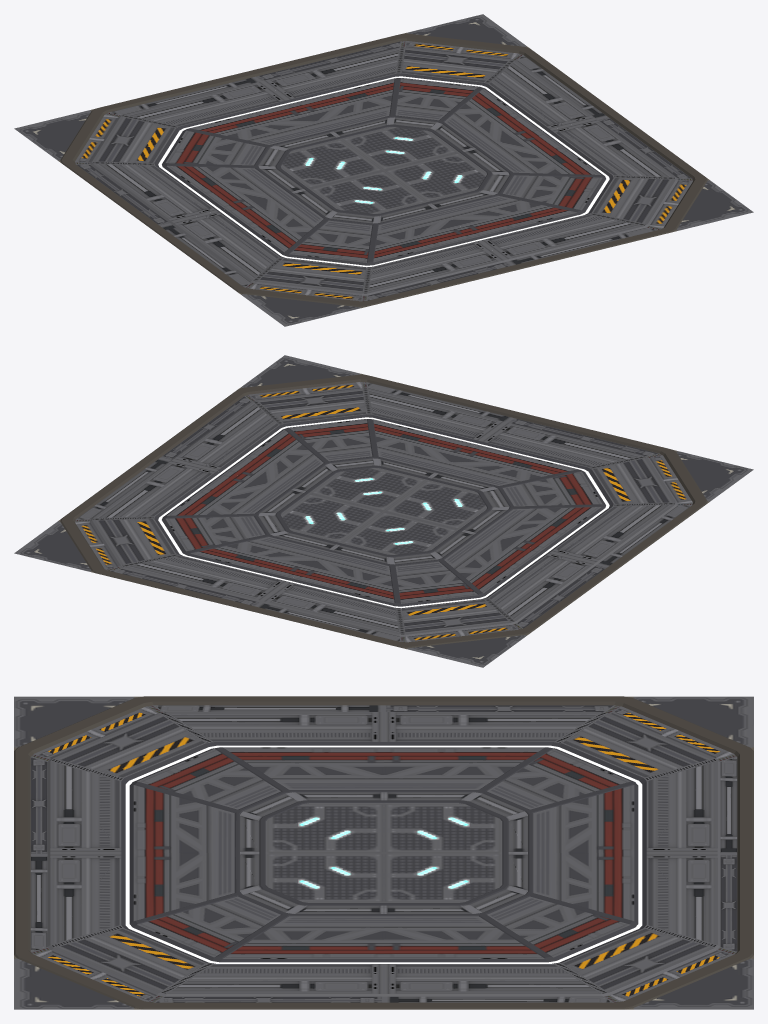
Rendered from SMBldPlatformLarge.glb.
3 views of the same model, one above another, from view 1: azimuth 30°, elevation 25°; view 2: azimuth 150°, elevation 25°; view 3: azimuth 270°, elevation 25° (orthographic). The views are drawn at different scales.
Visible parts, largest first — view 1: SM_Bld_Platform_Large_12; view 2: SM_Bld_Platform_Large_12; view 3: SM_Bld_Platform_Large_12.
Part boxes in pixels (left/top/right/bottom): SM_Bld_Platform_Large_12: left=14, top=14, right=753, bottom=326; SM_Bld_Platform_Large_12: left=14, top=355, right=753, bottom=667; SM_Bld_Platform_Large_12: left=14, top=696, right=753, bottom=1009.
Bounding box in the file's own units: 20 × 0.0809 × 20.
1 material, 1 textured.
